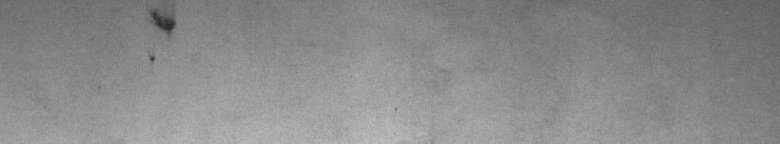fi: (143, 4, 182, 68)
